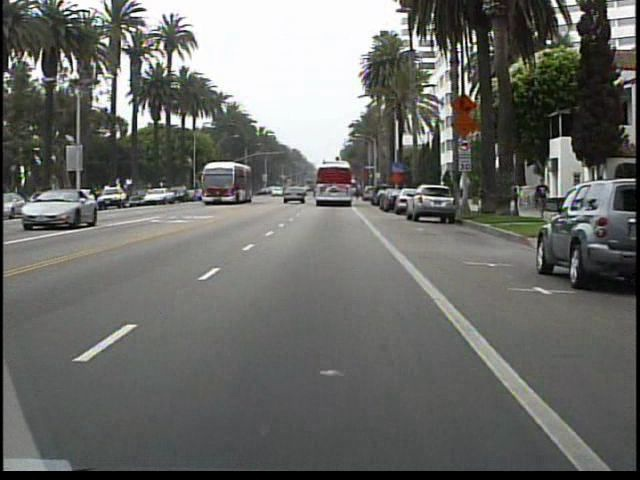person: (532, 173, 554, 225)
